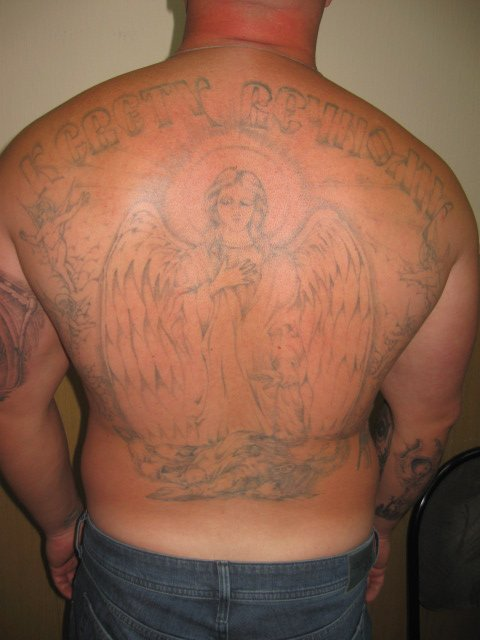tatu1_angel: (92, 131, 378, 506), (15, 176, 102, 298), (389, 228, 453, 315), (31, 297, 96, 360)
tatu3_bukva: (18, 66, 449, 215)
